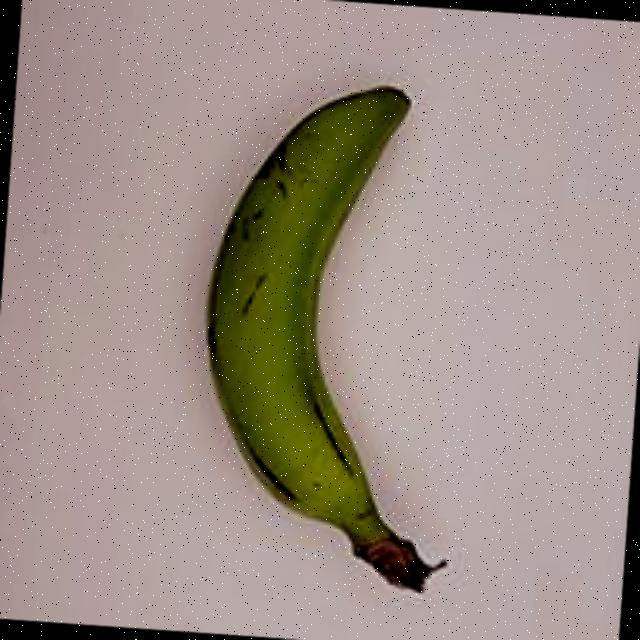Raw: (130, 55, 497, 618)
